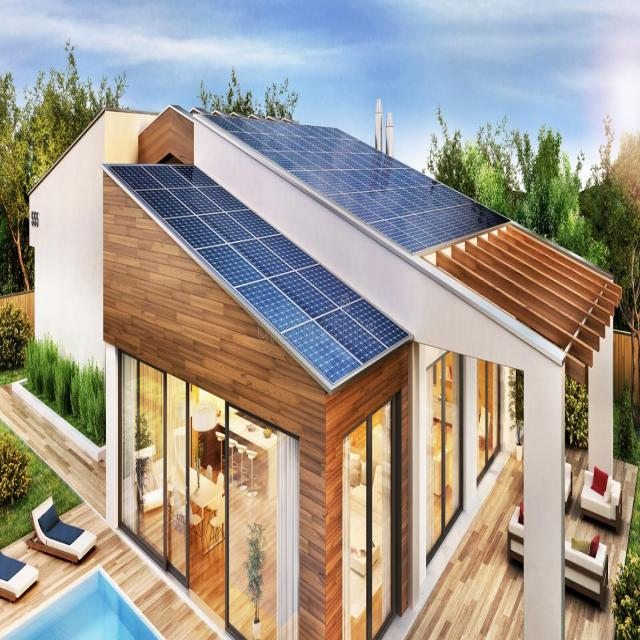clean-solar-panel: (106, 165, 408, 391), (203, 116, 504, 253)
